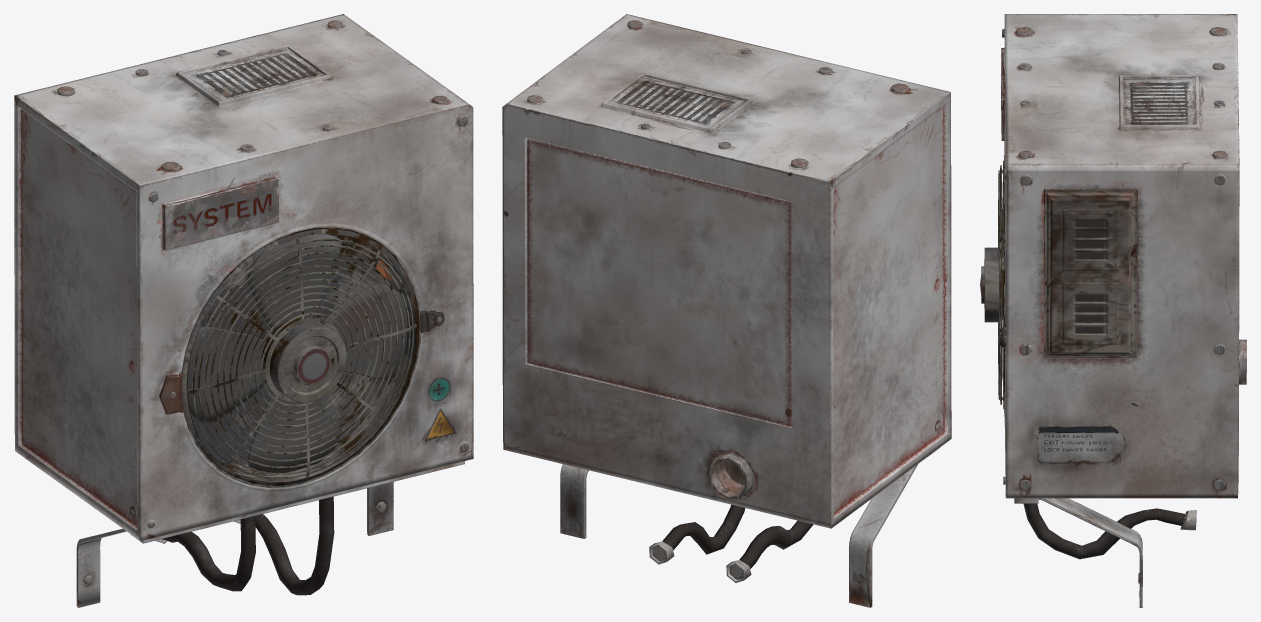
3 renders of one model, left to right at view 1: azimuth 30°, elevation 25°; view 2: azimuth 150°, elevation 25°; view 3: azimuth 270°, elevation 25°, orthographic. The views are drawn at different scales.
Parts seen in each view (by area): view 1: ventilator; view 2: ventilator; view 3: ventilator.
Boxes of the visible parts, x1,y1,x2,y2 form: ventilator: [14, 14, 473, 607]; ventilator: [502, 14, 951, 607]; ventilator: [980, 14, 1246, 607].
Size of the model in its own units: 923 by 1265 by 667.
